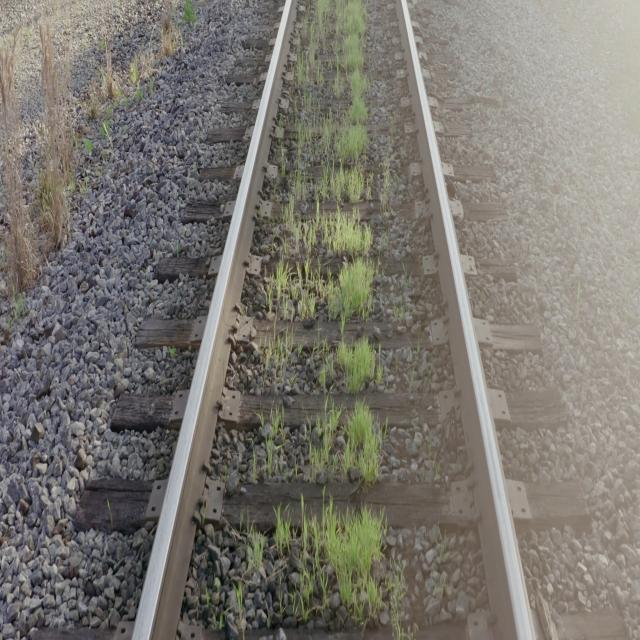Plant: (269, 0, 376, 320), (321, 502, 384, 622), (311, 516, 381, 620), (309, 409, 381, 482), (336, 338, 376, 393), (265, 418, 300, 478), (275, 516, 290, 556), (249, 533, 264, 571), (265, 344, 280, 371)
